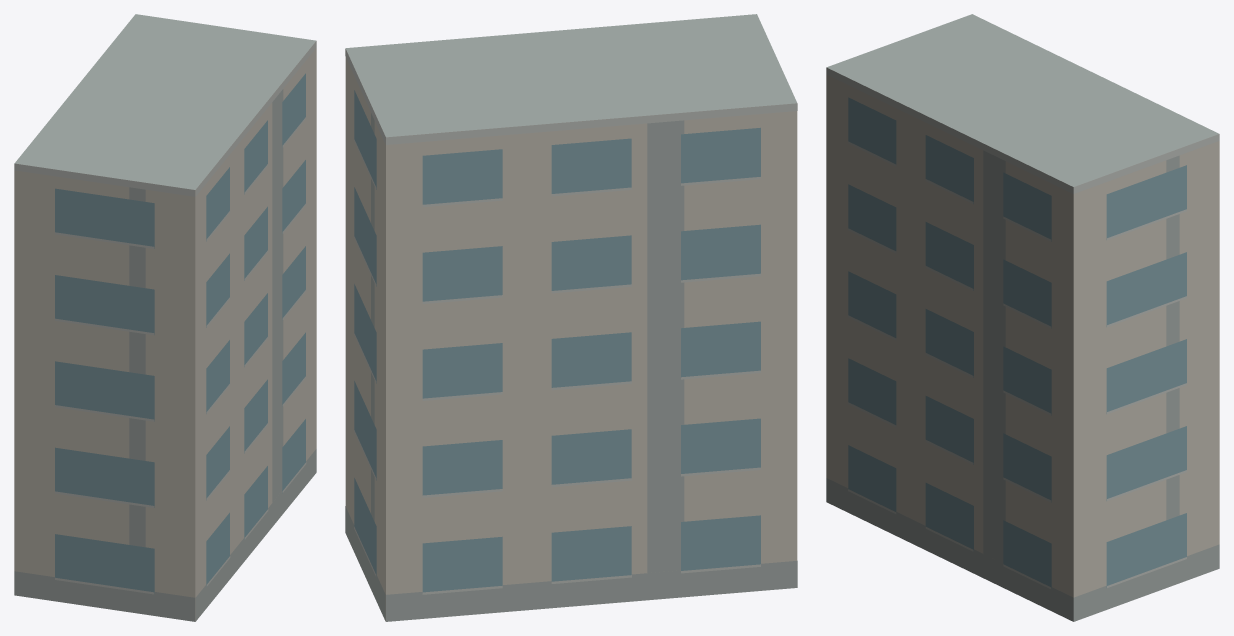
The model's file is survey-upis-32557505.glb.
The picture shows the model from 3 angles, left to right: view 1: azimuth 30°, elevation 25°; view 2: azimuth 150°, elevation 25°; view 3: azimuth 270°, elevation 25°; orthographic projection. The views are drawn at different scales.
Visible parts, largest first — view 1: survey-upis-32557505.tmp; view 2: survey-upis-32557505.tmp; view 3: survey-upis-32557505.tmp.
Part boxes in pixels (x1,y1,x2,y2): survey-upis-32557505.tmp: (14, 14, 316, 621); survey-upis-32557505.tmp: (345, 14, 797, 621); survey-upis-32557505.tmp: (826, 14, 1219, 621).
Bounding box in the file's own units: 13.04 × 15.25 × 12.51.
